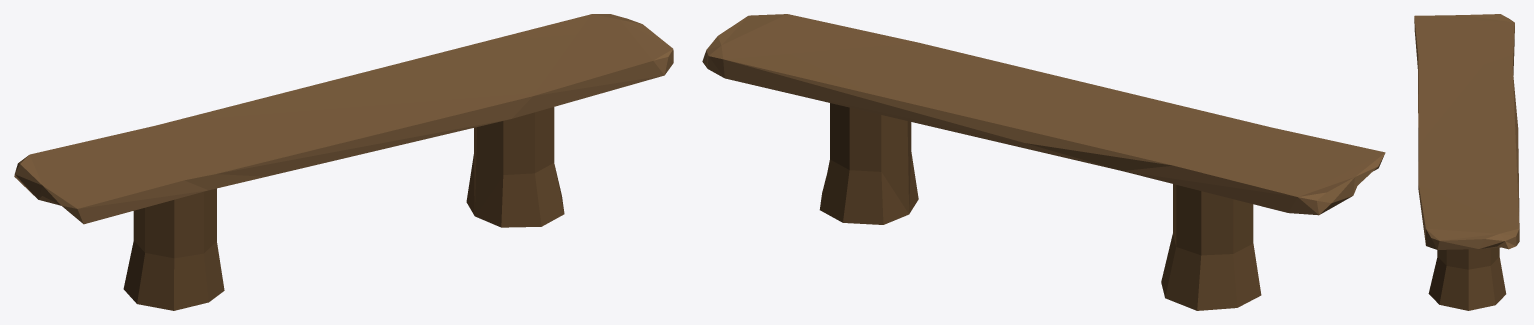
Rendered from Mesh_Props_Bench_01.obj.
The picture shows the model from 3 angles, left to right: view 1: azimuth 30°, elevation 25°; view 2: azimuth 150°, elevation 25°; view 3: azimuth 270°, elevation 25°; orthographic projection. The views are drawn at different scales.
Visible parts, largest first — view 1: Mesh_Props_Bench_01_M_LowPolyFarm_MAIN; view 2: Mesh_Props_Bench_01_M_LowPolyFarm_MAIN; view 3: Mesh_Props_Bench_01_M_LowPolyFarm_MAIN.
Part boxes in pixels (x1,y1,x2,y2): Mesh_Props_Bench_01_M_LowPolyFarm_MAIN: [14, 14, 673, 310]; Mesh_Props_Bench_01_M_LowPolyFarm_MAIN: [702, 14, 1385, 310]; Mesh_Props_Bench_01_M_LowPolyFarm_MAIN: [1414, 14, 1519, 310].
Size of the model in its own units: 2.05 by 0.4521 by 0.4038.
Materials: 1 (1 with a texture image).
